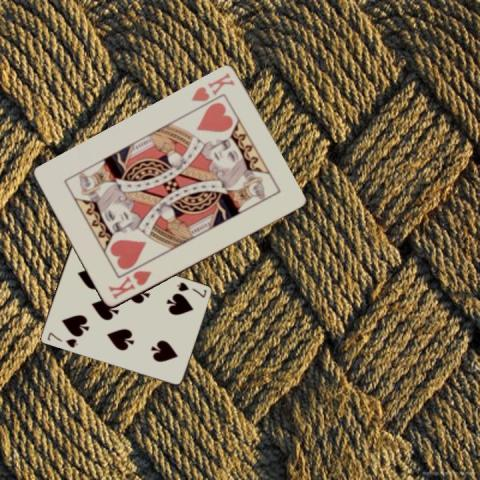7s: (44, 330, 79, 350), (174, 280, 207, 300)
Kh: (104, 267, 152, 302), (188, 70, 236, 104)
